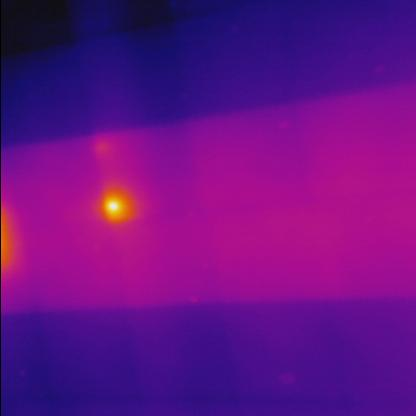hotspot: (95, 186, 141, 226)
